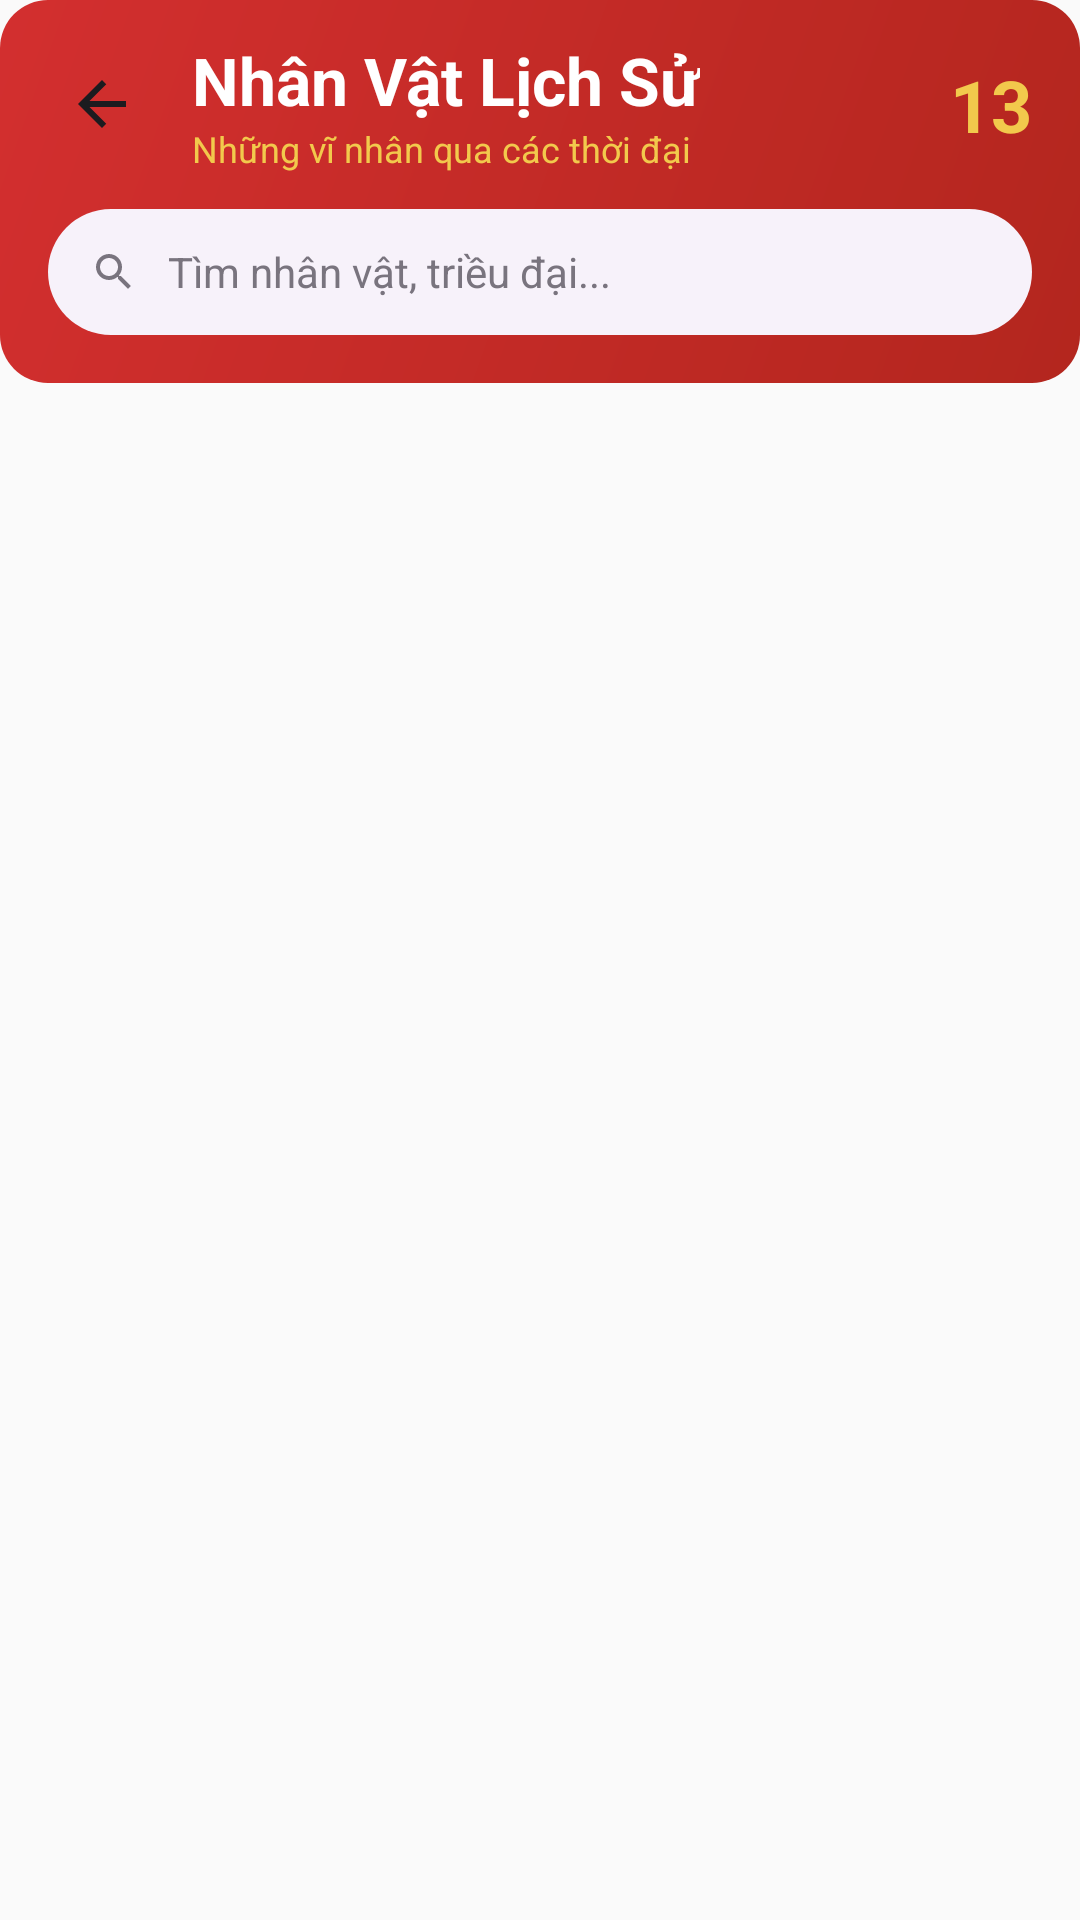

Icon click points for this 1080×1920 phone screenshot, format (x=x, y=y):
arrow back: (x=102, y=104)
search: (x=113, y=271)
